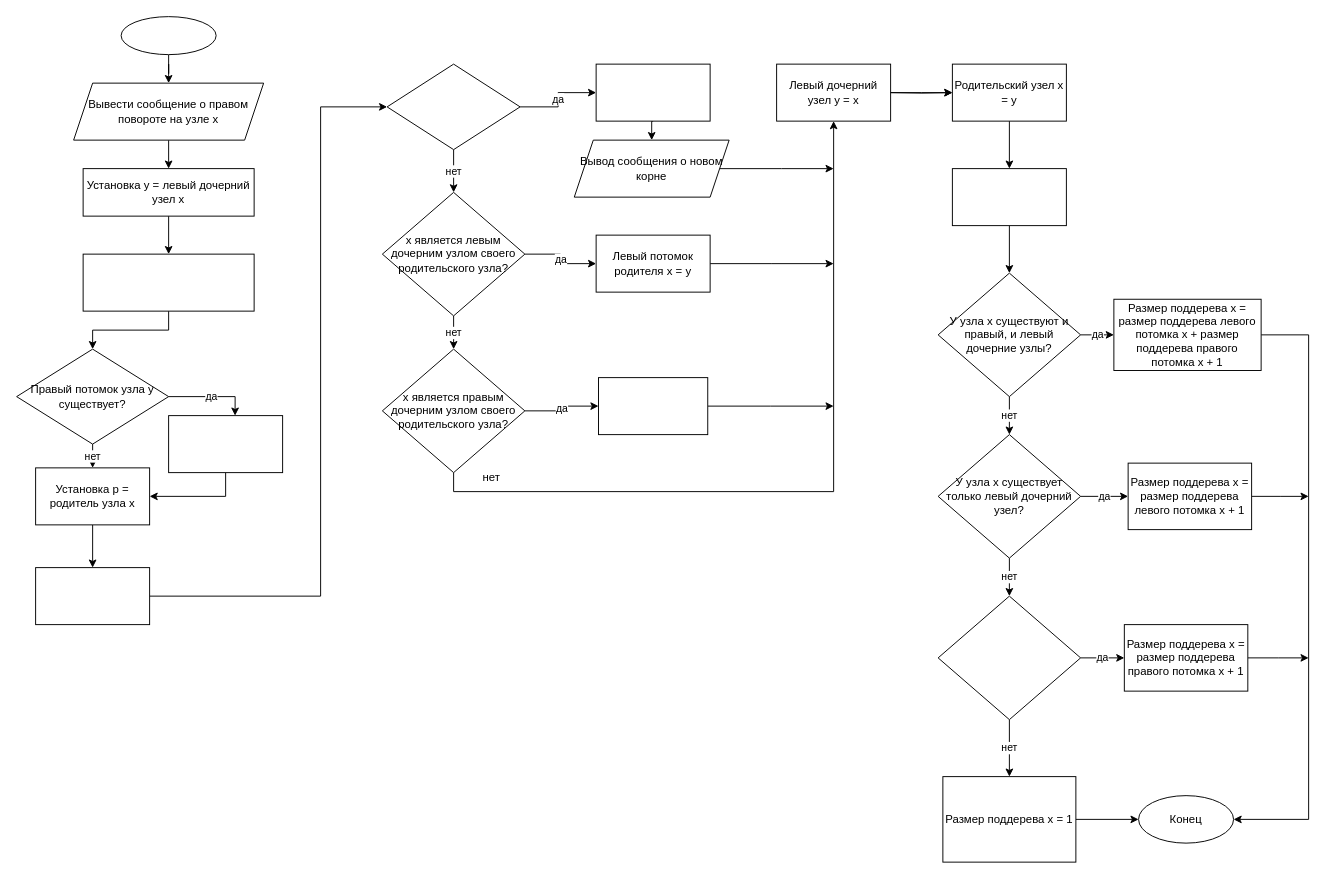
Some shapes in this 1333 by 879 pixel diagram are drawn without their labels. The shapes that lost their labels are listed below. From the top down, each one's centre as x and y in pixels, then its label:
At (x=168, y=35): "Начало".
At (x=453, y=106): "х является корнем дерева?".
At (x=652, y=92): "Корень дерева = y".
At (x=1008, y=197): "y.size = x.size".
At (x=168, y=282): "Превращение правого поддерева y в левое поддерево x".
At (x=653, y=406): "Правый потомок родителя x = y".
At (x=225, y=444): "Родитель правого потомка узла y = x".
At (x=92, y=596): "Родитель узла y = p".
At (x=1009, y=657): "У узла х существует только правый дочерний узел?".
